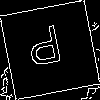P: (25, 25, 66, 76)
